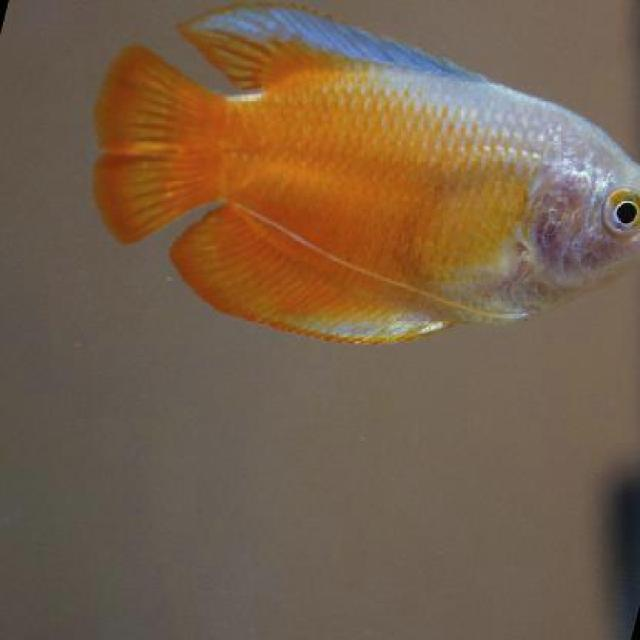Gourami: (84, 0, 638, 357)
